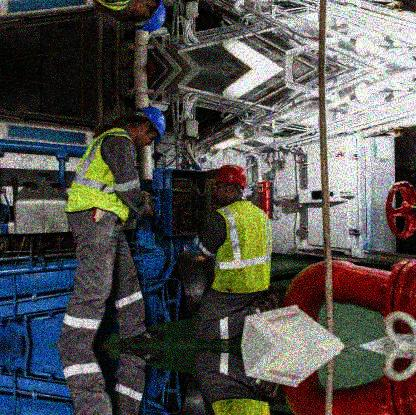helmet: (123, 106, 166, 148), (212, 164, 248, 203), (126, 1, 166, 31)
